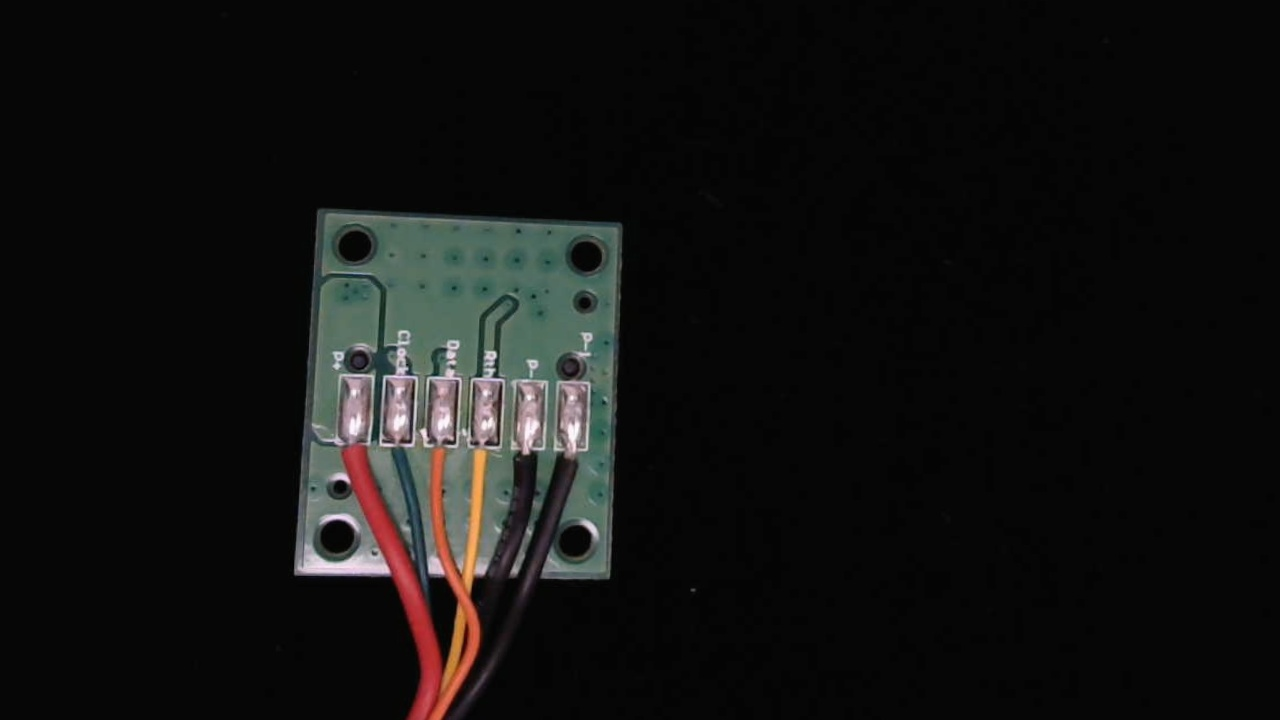Black: (508, 424, 548, 506)
Black1: (552, 428, 591, 503)
Green: (378, 415, 419, 493)
Orange: (420, 424, 459, 504)
Red: (335, 418, 376, 496)
Yellow: (465, 426, 505, 509)
